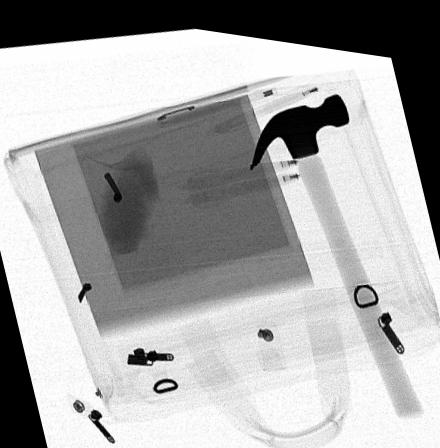Hammer: (249, 82, 424, 406)
